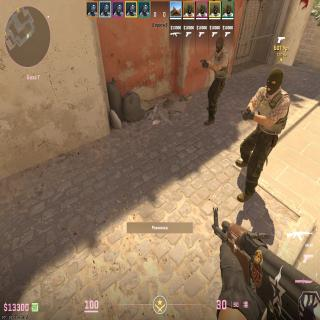T-Body: (240, 66, 290, 194), (210, 36, 229, 125)
T-Head: (266, 67, 284, 94), (216, 37, 224, 52)
